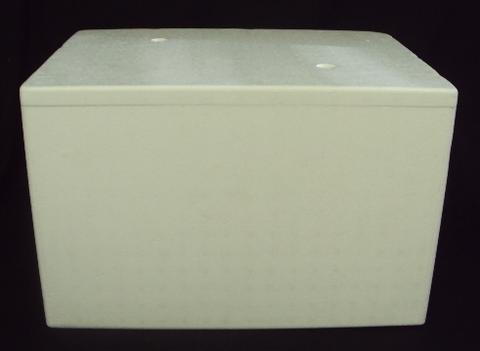泡沫箱: (20, 30, 456, 329)
